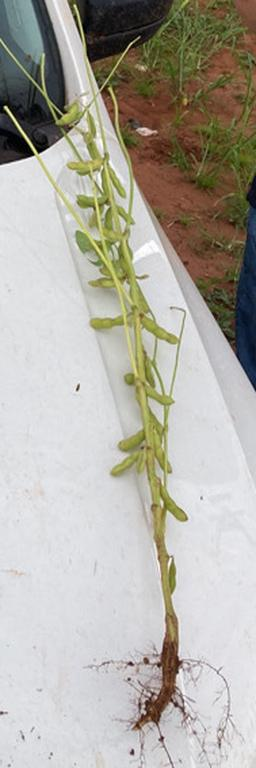pod: (159, 481, 190, 518), (142, 314, 179, 343), (152, 433, 172, 477), (114, 429, 148, 452), (55, 102, 80, 132), (90, 313, 130, 331), (109, 454, 138, 476), (66, 153, 105, 169), (107, 165, 127, 196), (75, 190, 107, 207), (147, 382, 172, 403), (168, 563, 179, 590)
soy: (21, 54, 208, 746)
